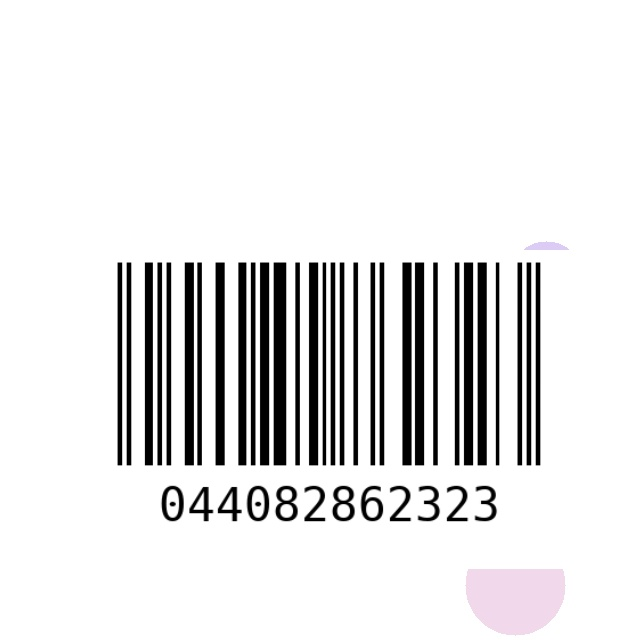barcode: (31, 250, 627, 569)
